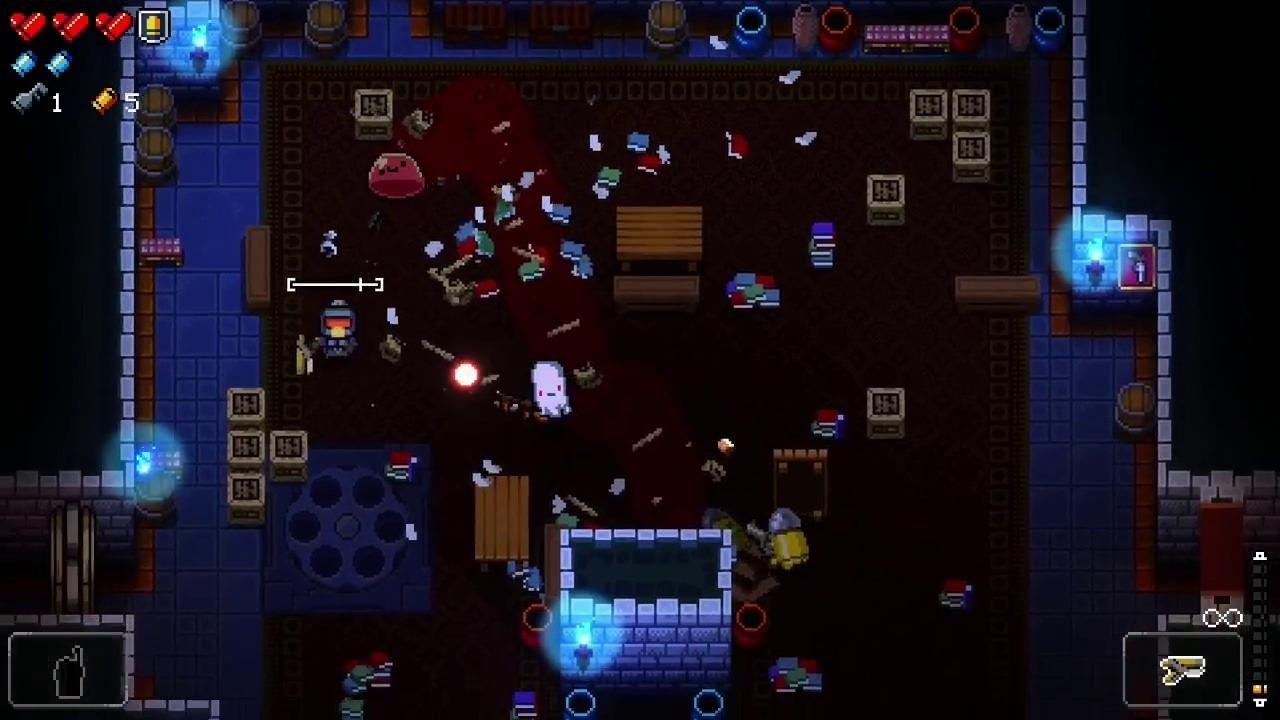blobulon_l: (368, 152, 425, 201)
blocked_door: (1203, 487, 1244, 614)
bullet: (453, 361, 480, 390)
bullet_kin: (767, 508, 811, 571)
hollowpoint: (529, 359, 574, 420)
locked_door: (49, 501, 94, 615)
player: (319, 307, 357, 362)
table: (616, 207, 702, 273), (475, 476, 529, 572), (774, 449, 830, 521)
teleporter: (261, 442, 432, 610)
wall: (560, 528, 732, 694)
